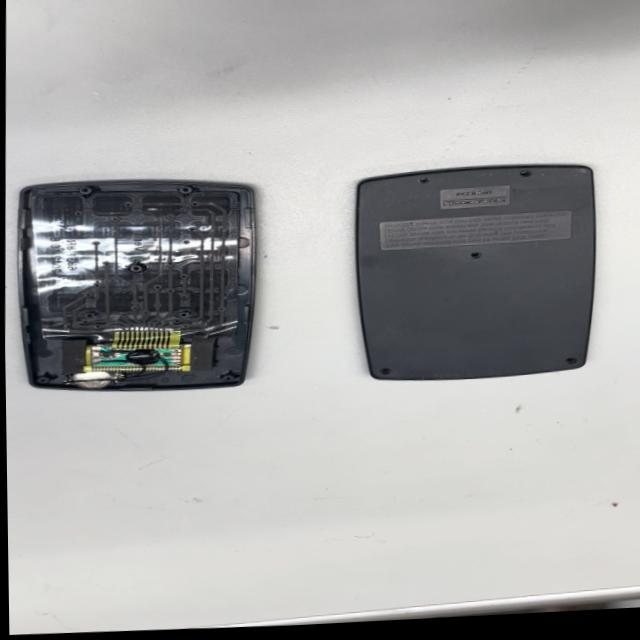back_cover: (358, 149, 600, 391)
front_panel: (7, 161, 277, 412)
